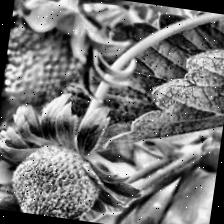Powdery Mildew Fruit: (7, 136, 106, 223)
